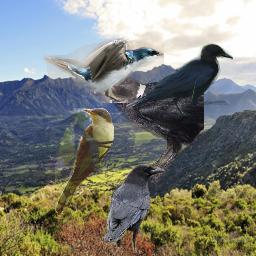Crow: (93, 76, 204, 184), (126, 43, 233, 119), (102, 164, 165, 253)
Cuckoo: (55, 108, 114, 216)
Swallow: (43, 38, 164, 103)
